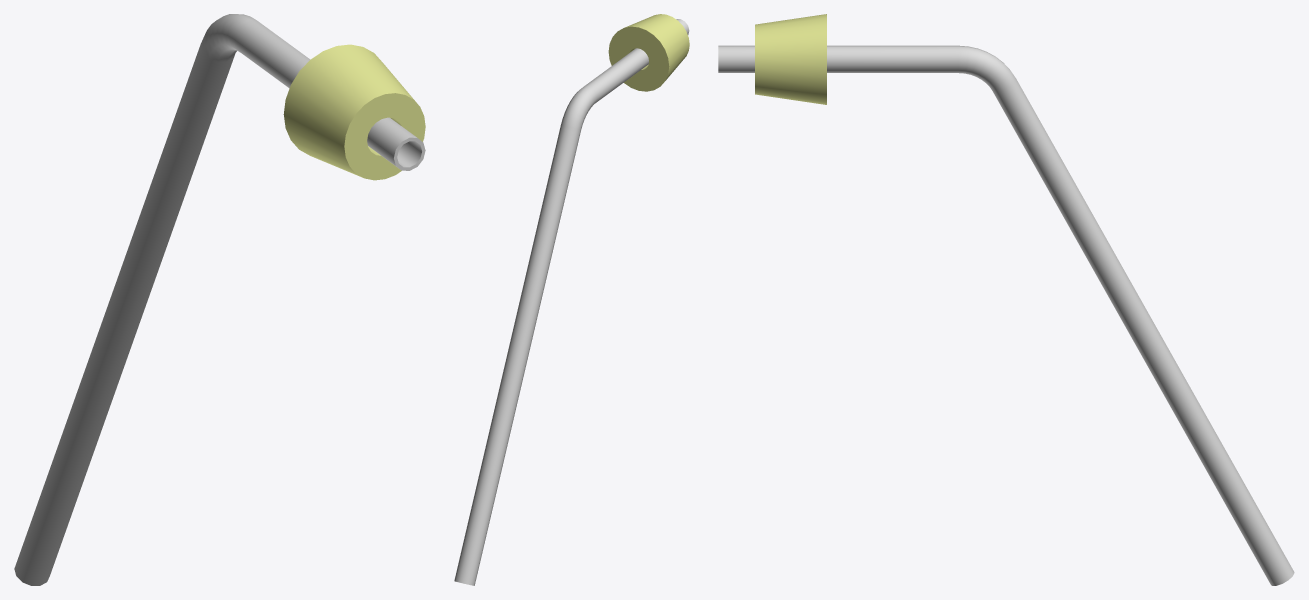
File: 导管胶塞.FBX
3 renders of one model, left to right at view 1: azimuth 30°, elevation 25°; view 2: azimuth 150°, elevation 25°; view 3: azimuth 270°, elevation 25°, orthographic. The views are drawn at different scales.
Parts seen in each view (by area): view 1: Line002, 模型\胶塞; view 2: Line002, 模型\胶塞; view 3: Line002, 模型\胶塞.
Part boxes in pixels (x1,y1,x2,y2): Line002: (14,14,425,585); 模型\胶塞: (283,44,425,180); Line002: (454,19,689,585); 模型\胶塞: (608,14,689,91); Line002: (718,45,1294,585); 模型\胶塞: (755,14,826,104).
Bounding box in the file's own units: 1.57 × 10.69 × 9.87.
